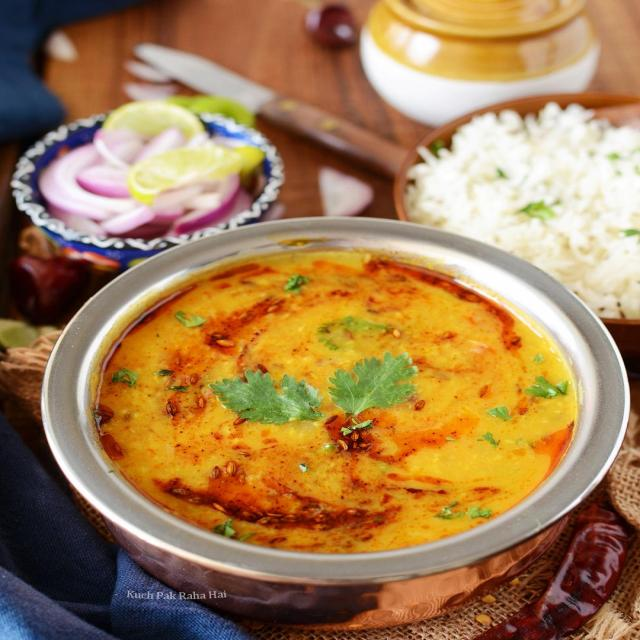dal: (93, 246, 580, 554)
rice: (418, 105, 640, 322)
